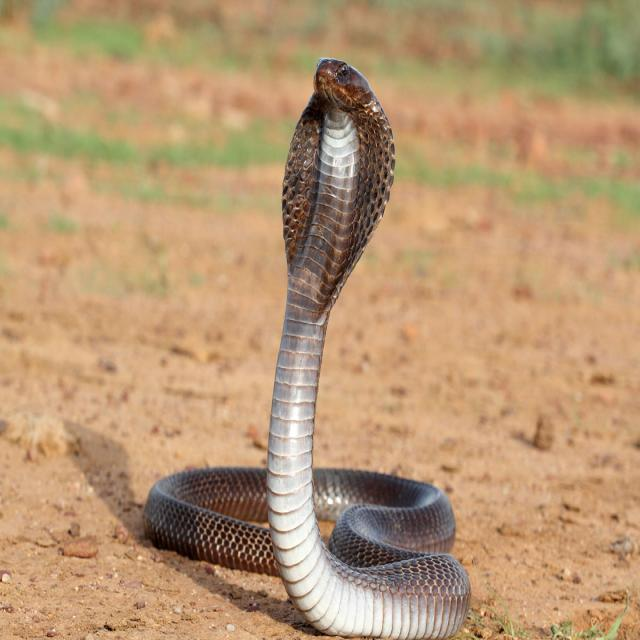Snake: (142, 55, 472, 638)
